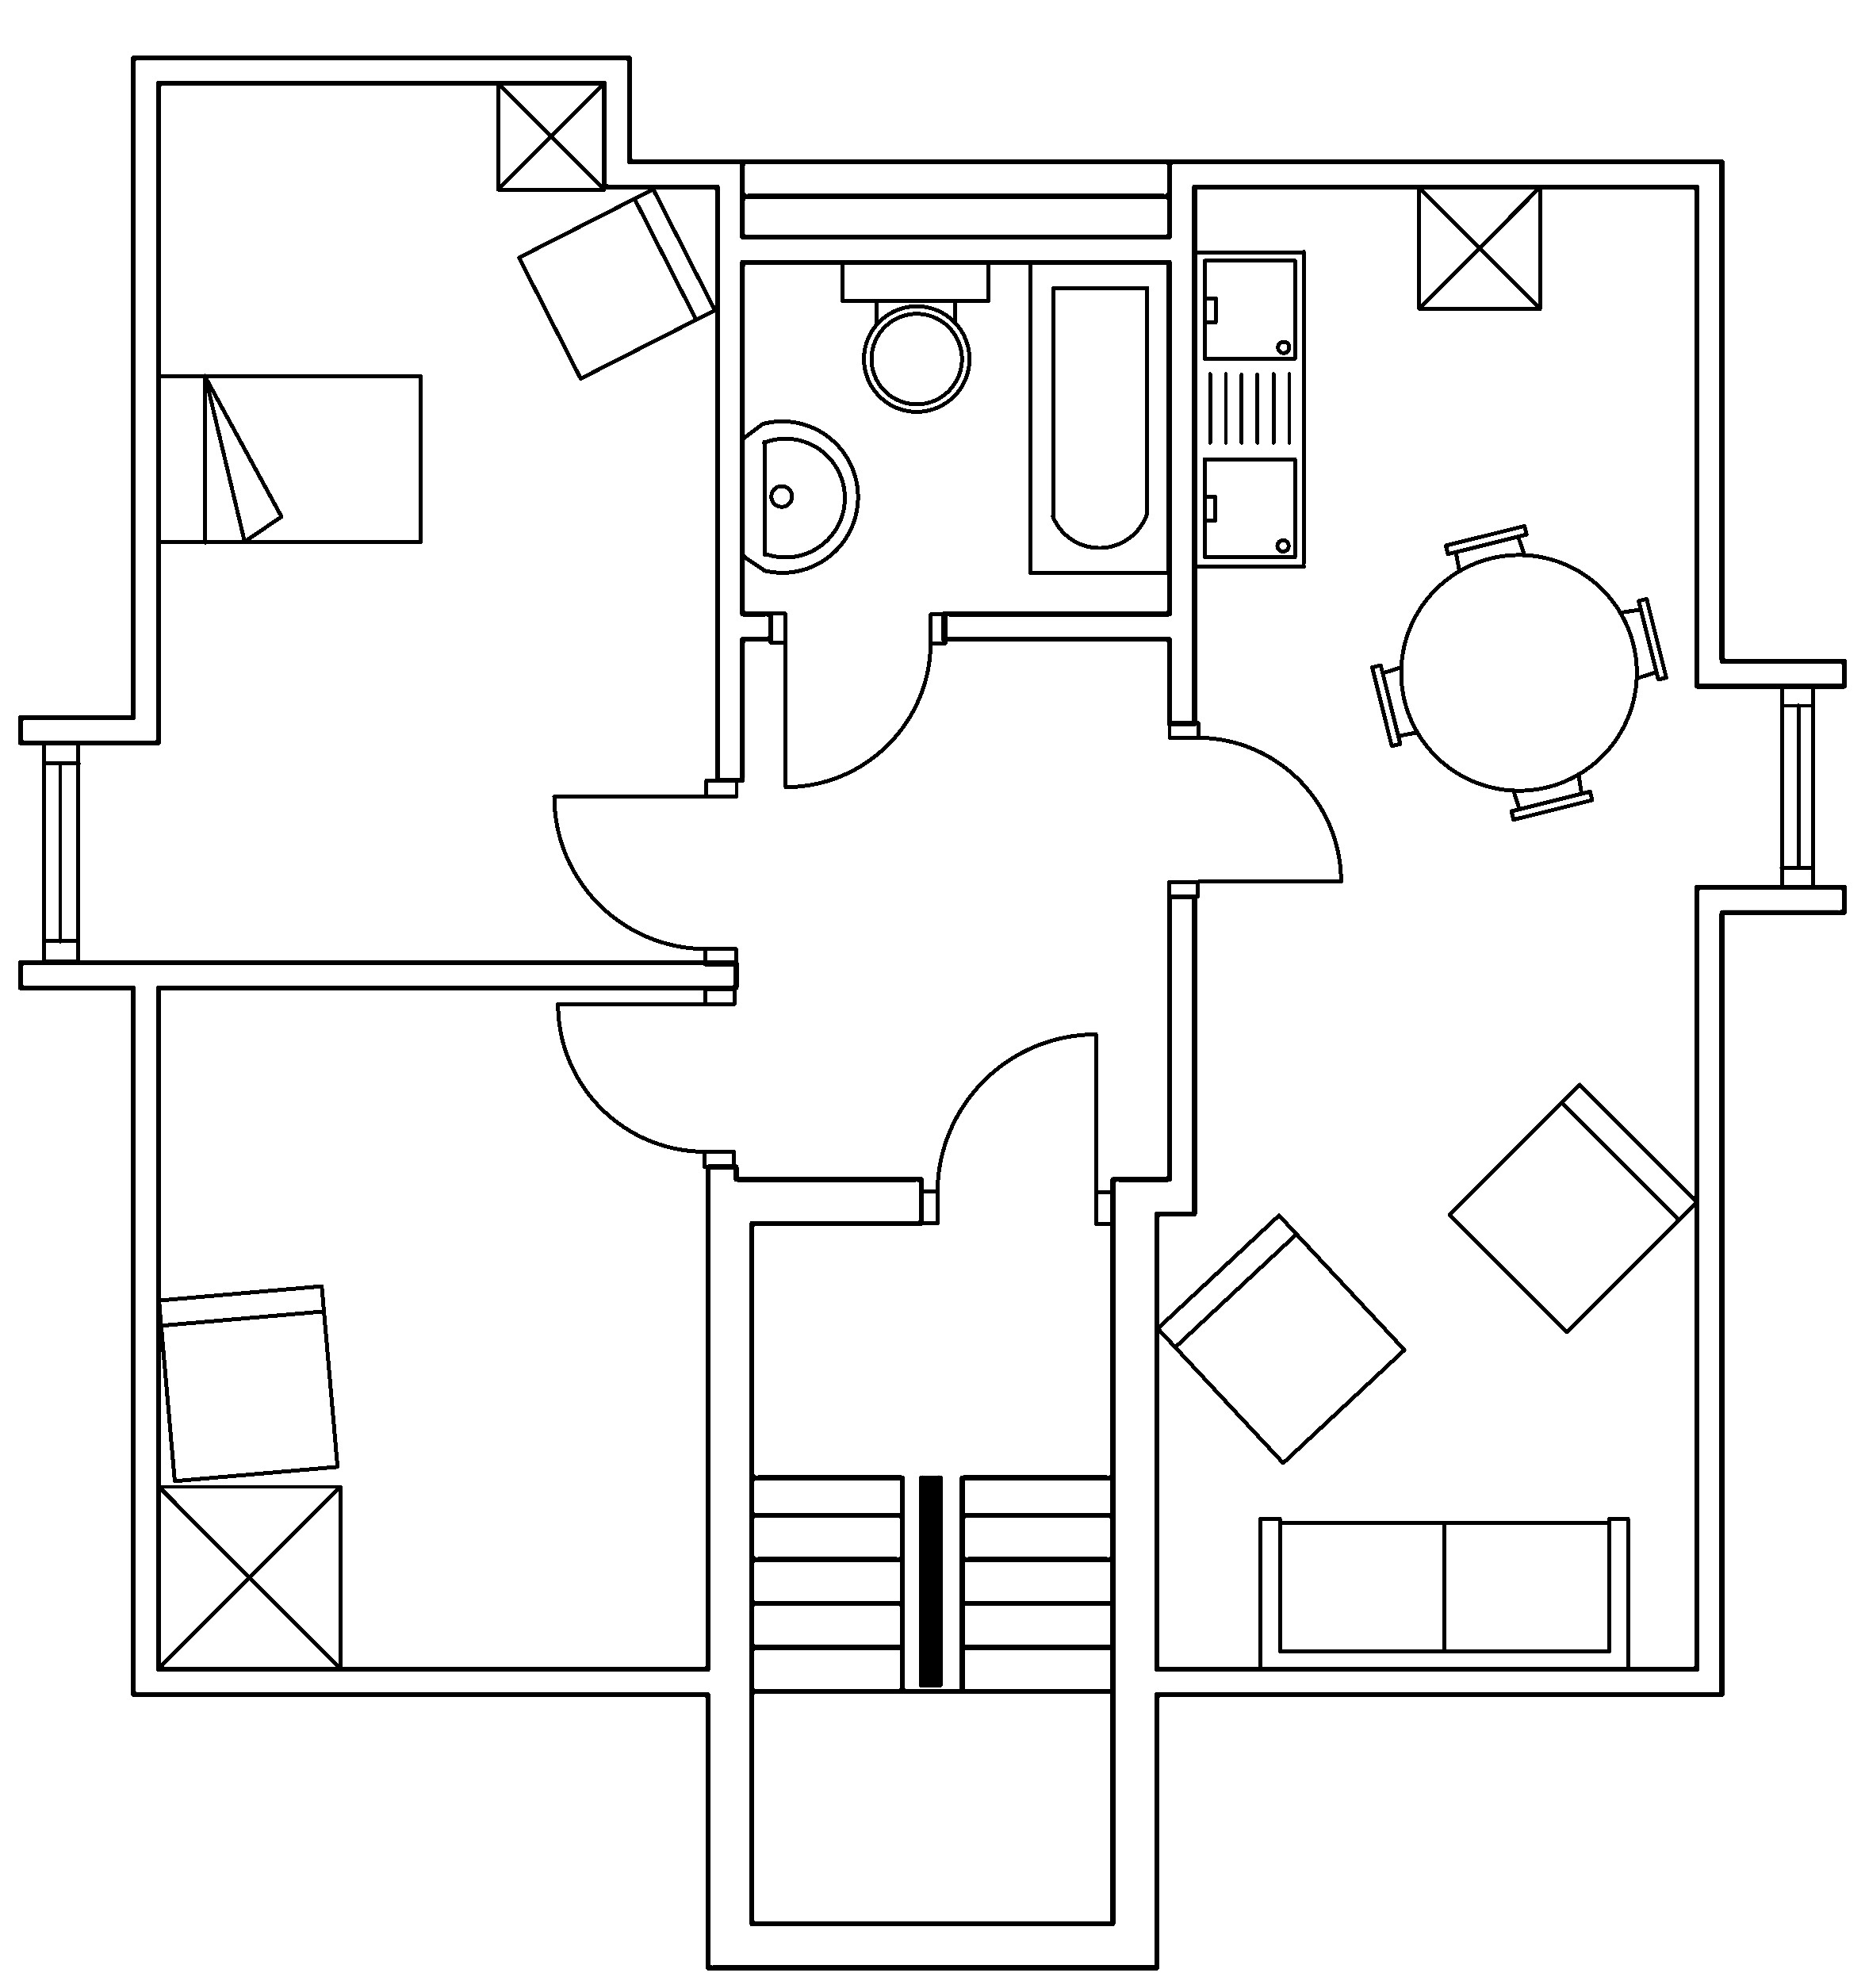bed: (154, 372, 424, 545)
coffee_table: (154, 1481, 342, 1671), (1416, 182, 1542, 310), (494, 79, 606, 191)
large_sink: (840, 258, 990, 412)
large_sofa: (1257, 1515, 1630, 1672)
round_table: (1369, 522, 1669, 822)
small_sink: (740, 419, 859, 573)
small_sofa: (1153, 1211, 1408, 1466), (1446, 1082, 1698, 1334), (515, 186, 717, 380), (156, 1282, 340, 1483)
tub: (1027, 258, 1171, 575)
twin_sink: (1192, 247, 1308, 570)
